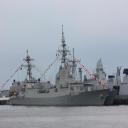Fragata: (11, 25, 111, 107)
